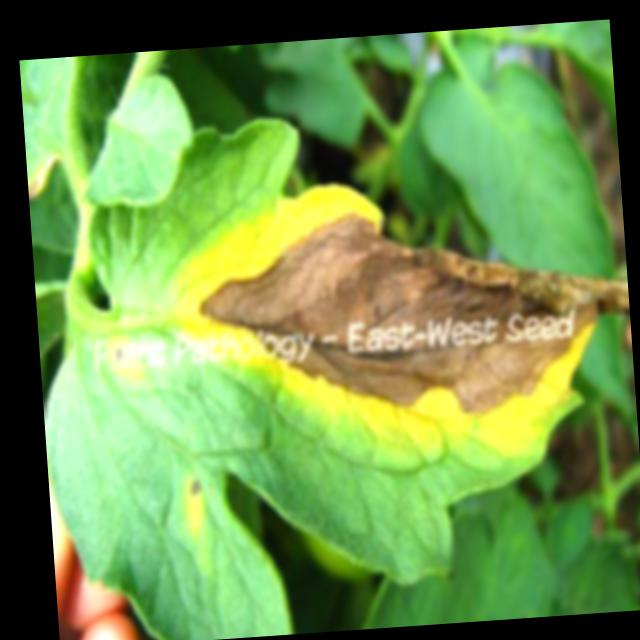Early_blight: (162, 165, 638, 473), (108, 340, 126, 369), (180, 475, 203, 496)
